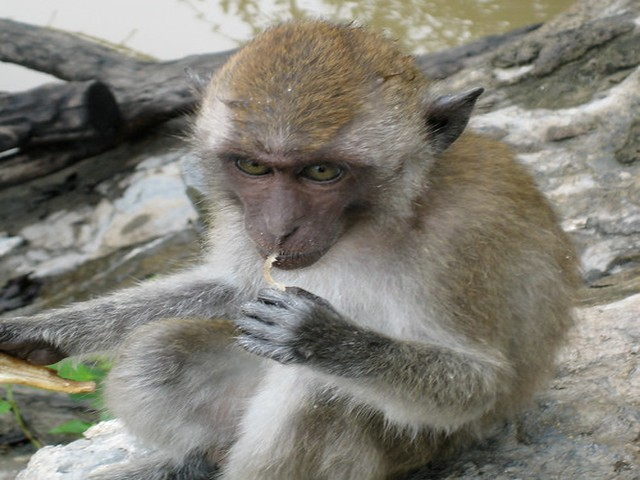Monkey: (64, 13, 589, 467)
